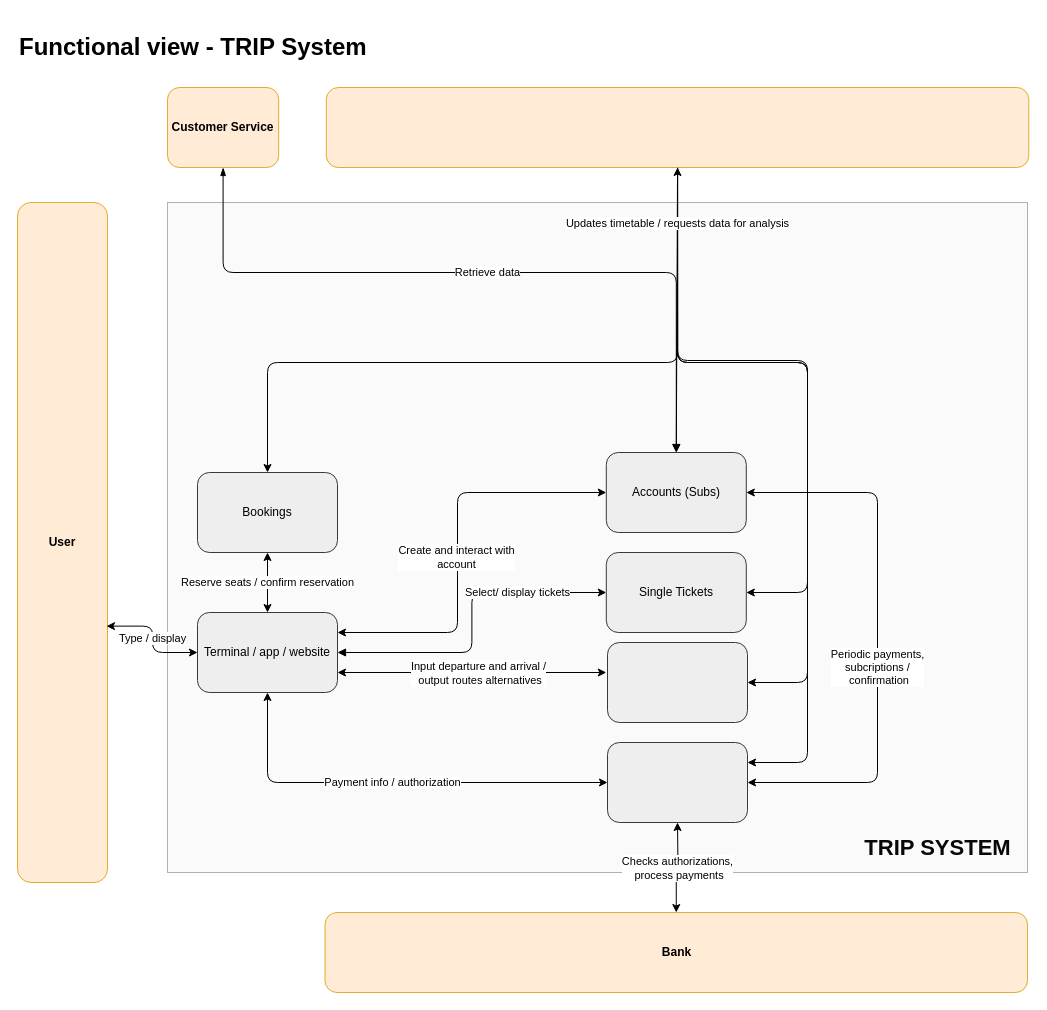
This 1047x1010 diagram has some shape labels left out. Each missing label, with the centre of its shape:
"Payments" goes at (677,782).
"Routes" goes at (677,682).
"Tycoon" goes at (677,127).
